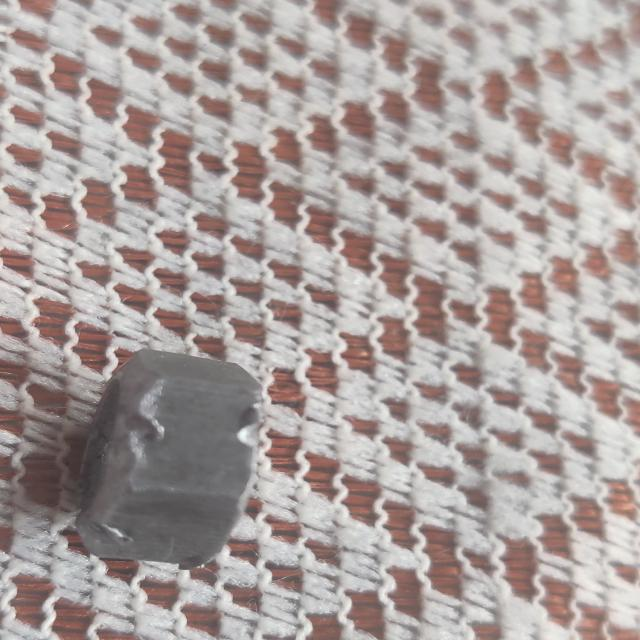infected nut: (77, 350, 263, 568)
